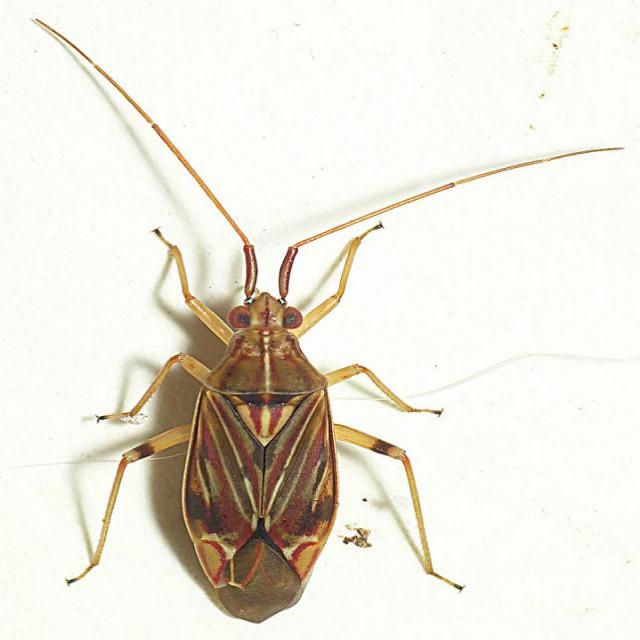Miridae-Adult-: (26, 13, 624, 626)
